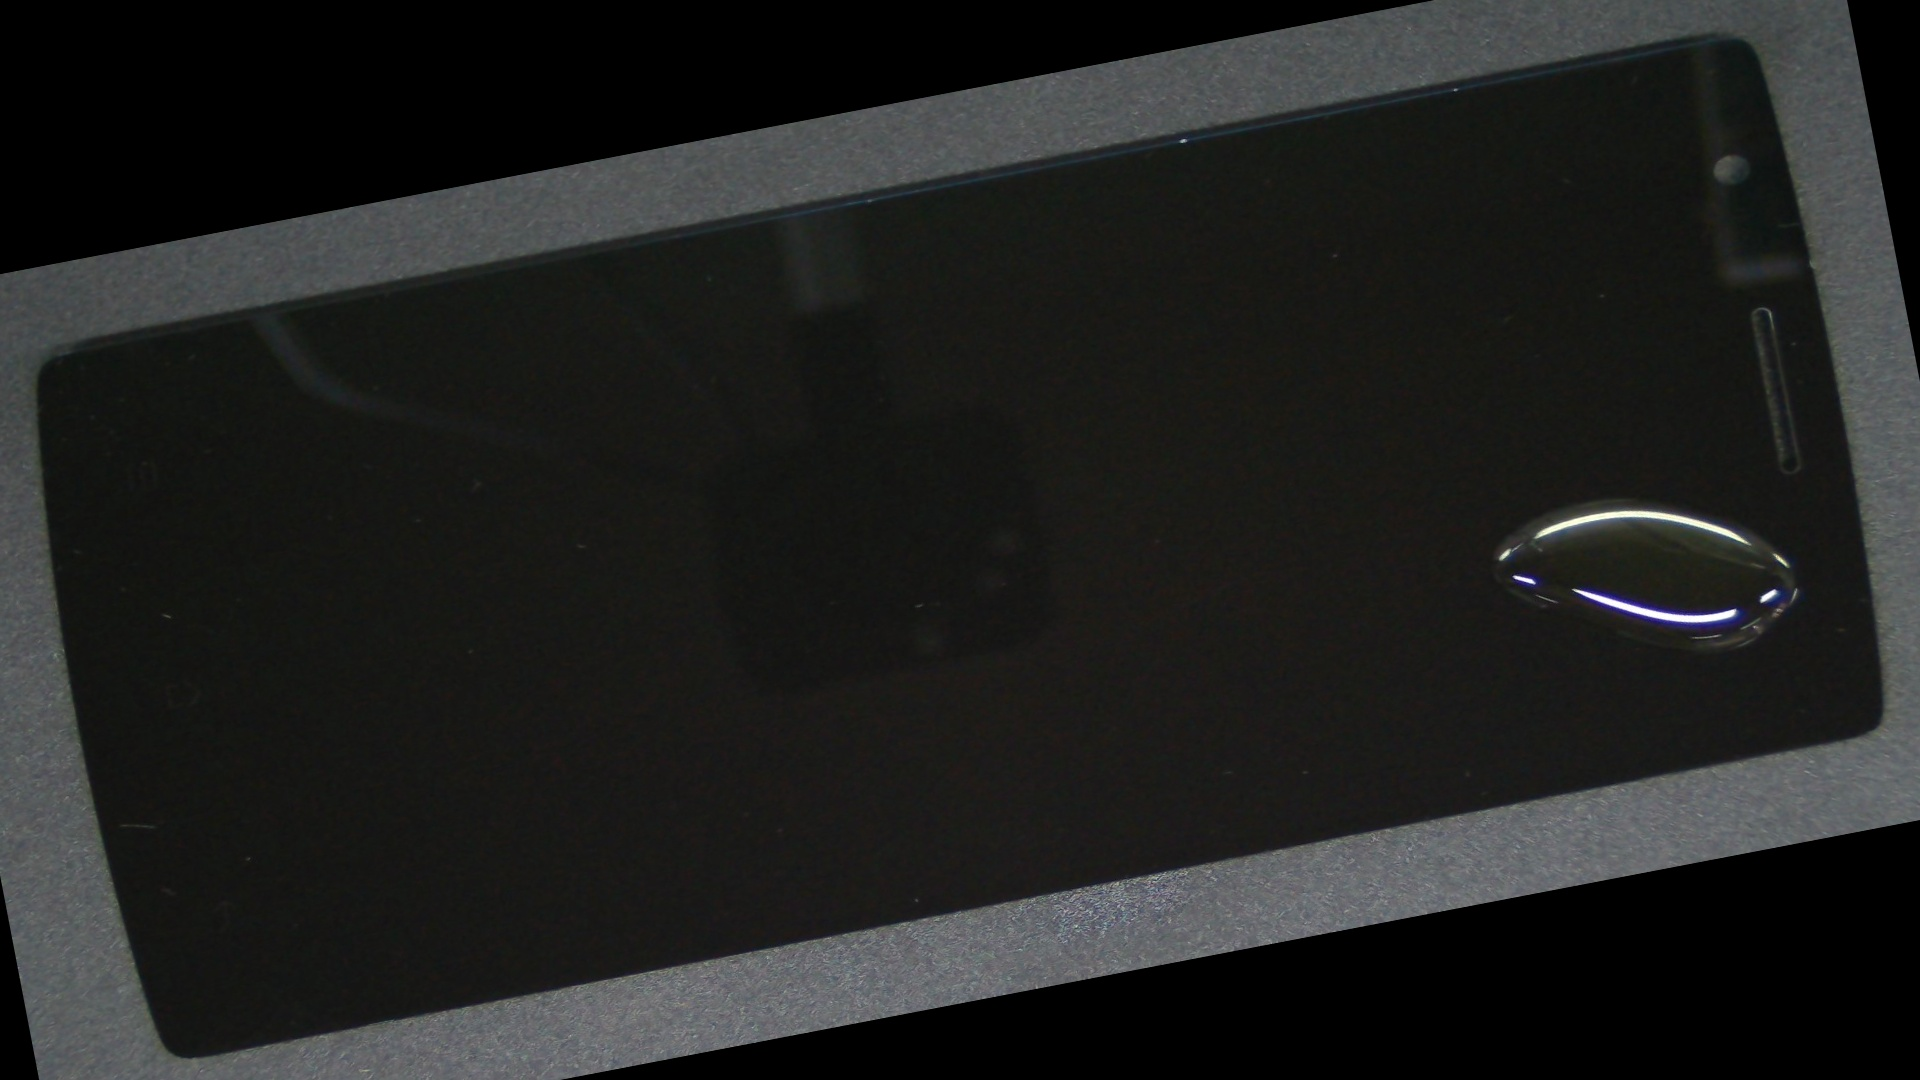oil: (729, 179, 1920, 910)
